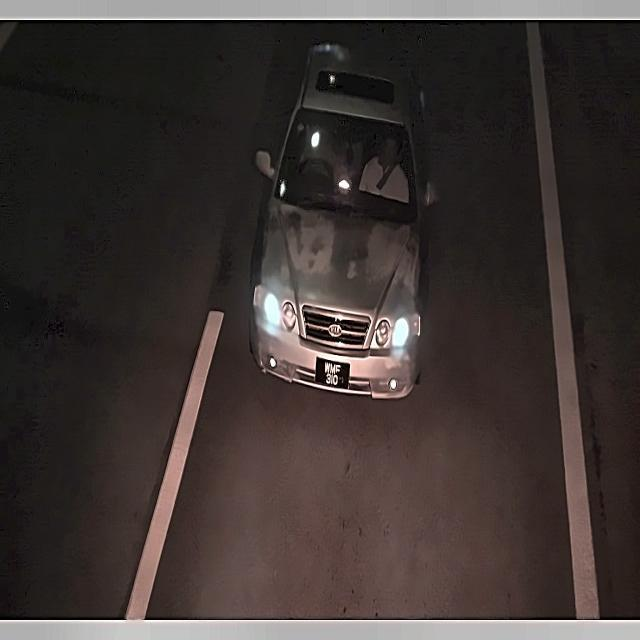car: (313, 354, 352, 396)
